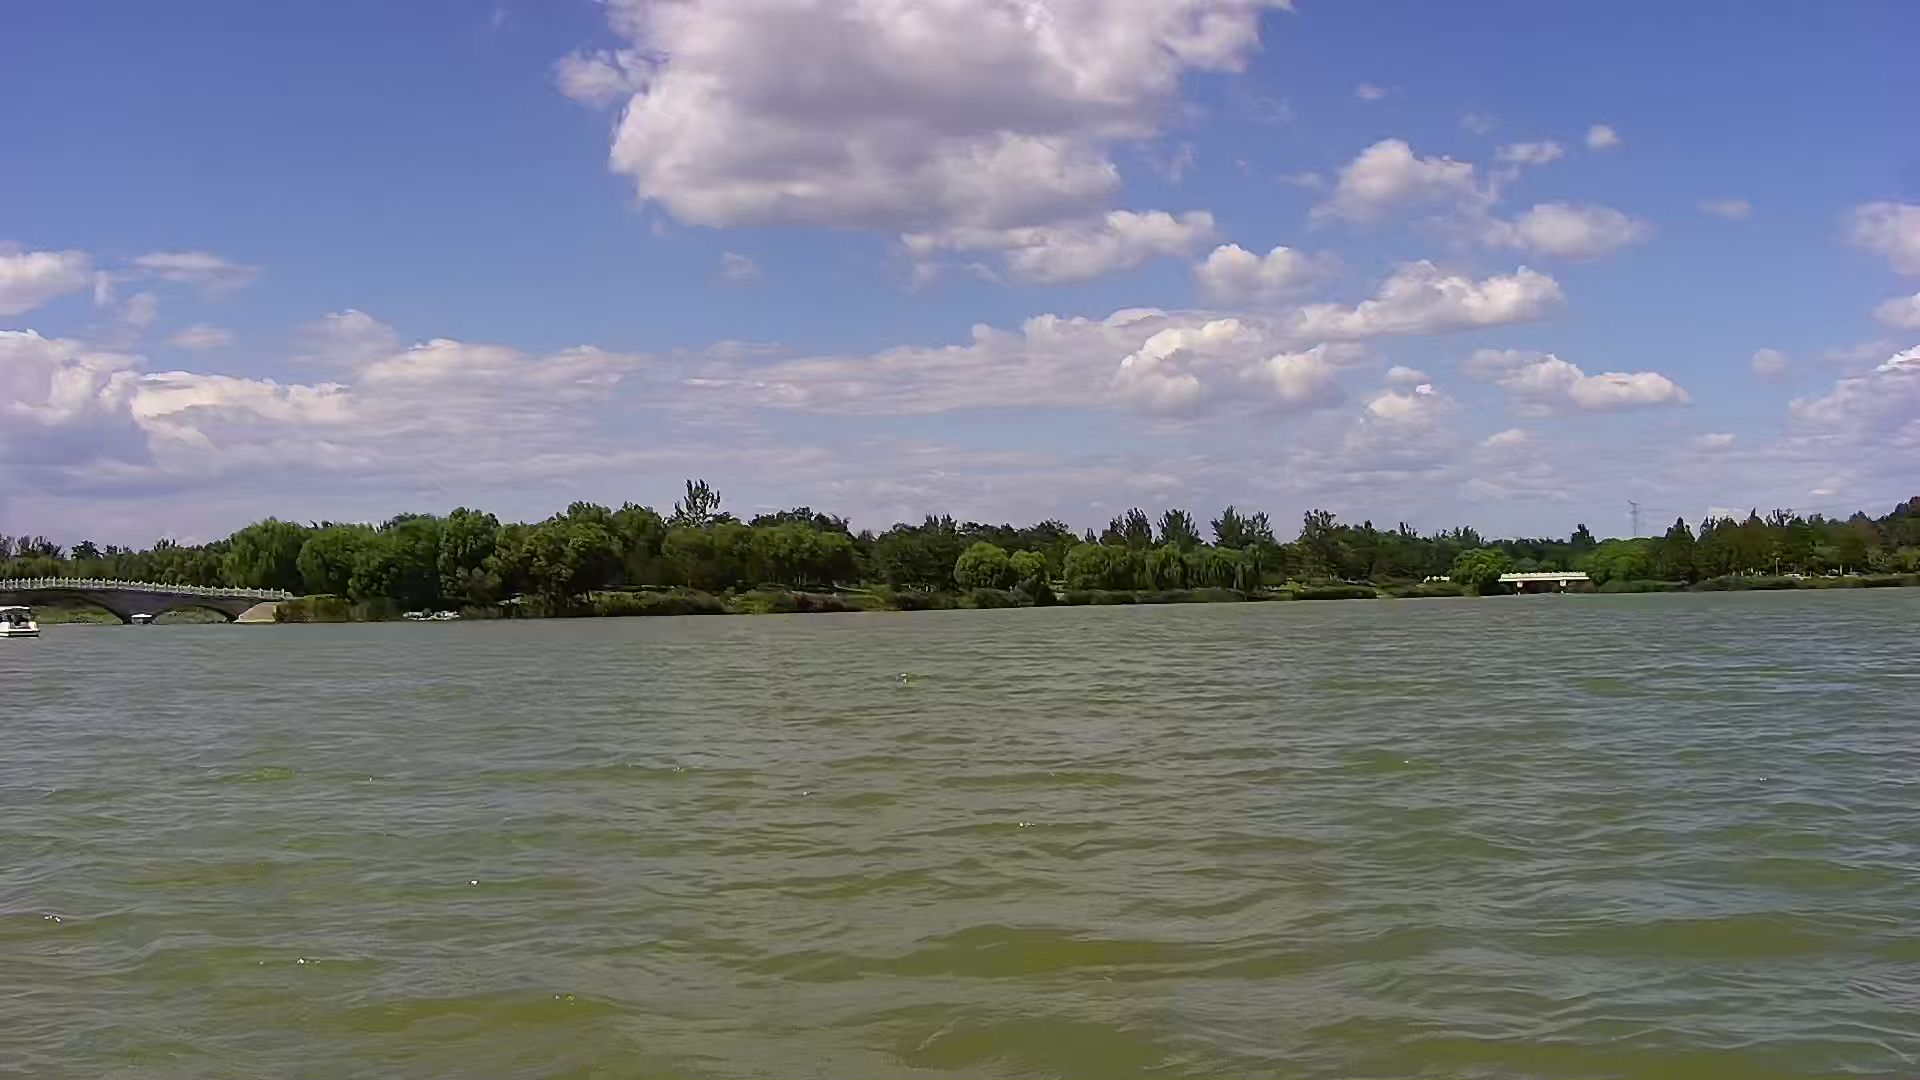boat: (1, 607, 53, 642)
bridge: (3, 560, 305, 628)
